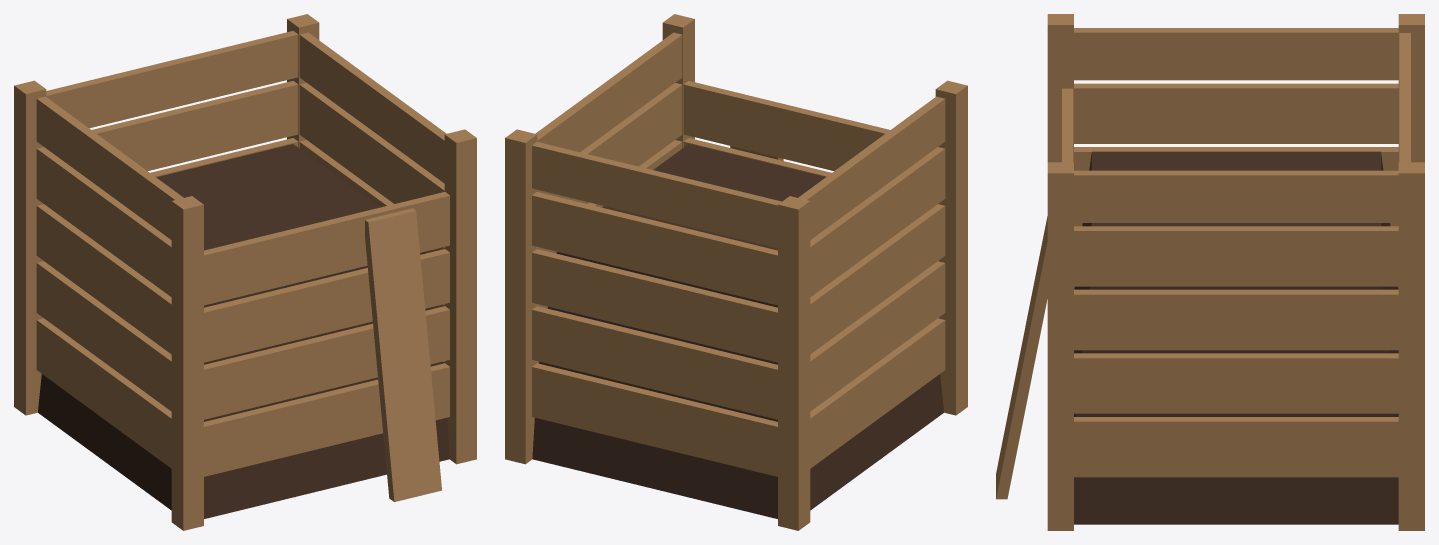
File: FN_Bin_Compost.glb
The picture shows the model from 3 angles, left to right: view 1: azimuth 30°, elevation 25°; view 2: azimuth 150°, elevation 25°; view 3: azimuth 270°, elevation 25°; orthographic projection. The views are drawn at different scales.
Parts seen in each view (by area): view 1: FN_Bin_Compost; view 2: FN_Bin_Compost; view 3: FN_Bin_Compost.
Boxes of the visible parts, box(x1,y1,x2,y2) form: FN_Bin_Compost: box(14, 14, 476, 530); FN_Bin_Compost: box(505, 14, 967, 530); FN_Bin_Compost: box(996, 14, 1424, 530).
Bounding box in the file's own units: 0.86 × 0.9 × 0.978.
1 material, 1 textured.
